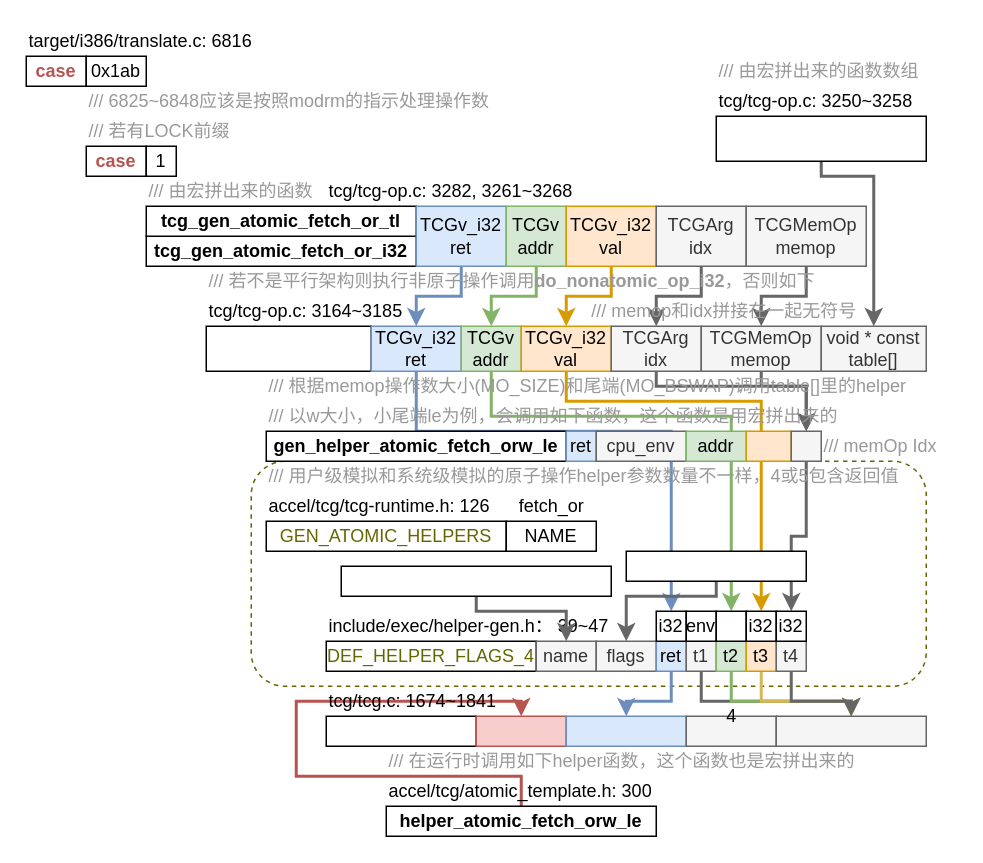
The diagram is 983 pixels wide and 863 high, and some of its shapes have lost their labels. Here are the shapes that lost their labels. From the top down, the box of each, then its label:
(715, 115, 926, 161): static void * const table_fetch_or [16]
(205, 325, 371, 371): do_atomic_op_i32
(745, 430, 791, 461): val
(790, 430, 821, 461): oi
(340, 565, 611, 596): glue(glue(atomic_, NAME), b)
(625, 550, 806, 581): TCG_CALL_NO_WG
(715, 610, 746, 641): tl
(325, 715, 476, 746): tcg_gen_callN
(475, 715, 566, 746): void *func
(565, 715, 686, 746): TCGTemp *ret
(685, 715, 776, 746): int nargs
(775, 715, 926, 746): TCGTemp **args
